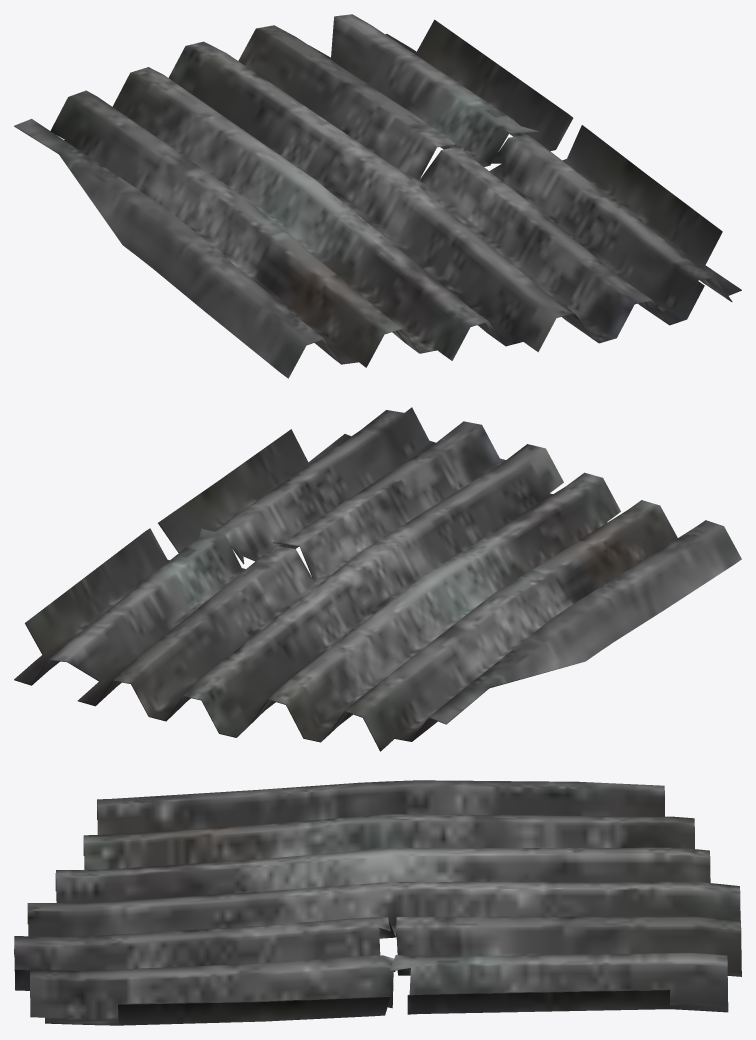
The model's file is Metal_Sheet_02.glb.
The picture shows the model from 3 angles, top to bottom: view 1: azimuth 30°, elevation 25°; view 2: azimuth 150°, elevation 25°; view 3: azimuth 270°, elevation 25°; orthographic projection.
Visible parts, largest first — view 1: Metal_Sheet_02; view 2: Metal_Sheet_02; view 3: Metal_Sheet_02.
Boxes of the visible parts, box(x1,y1,x2,y2) form: Metal_Sheet_02: box(14, 14, 741, 378); Metal_Sheet_02: box(14, 407, 741, 751); Metal_Sheet_02: box(14, 780, 741, 1025).
Size of the model in its own units: 1.61 by 0.177 by 2.29.
Materials: 1 (1 with a texture image).
